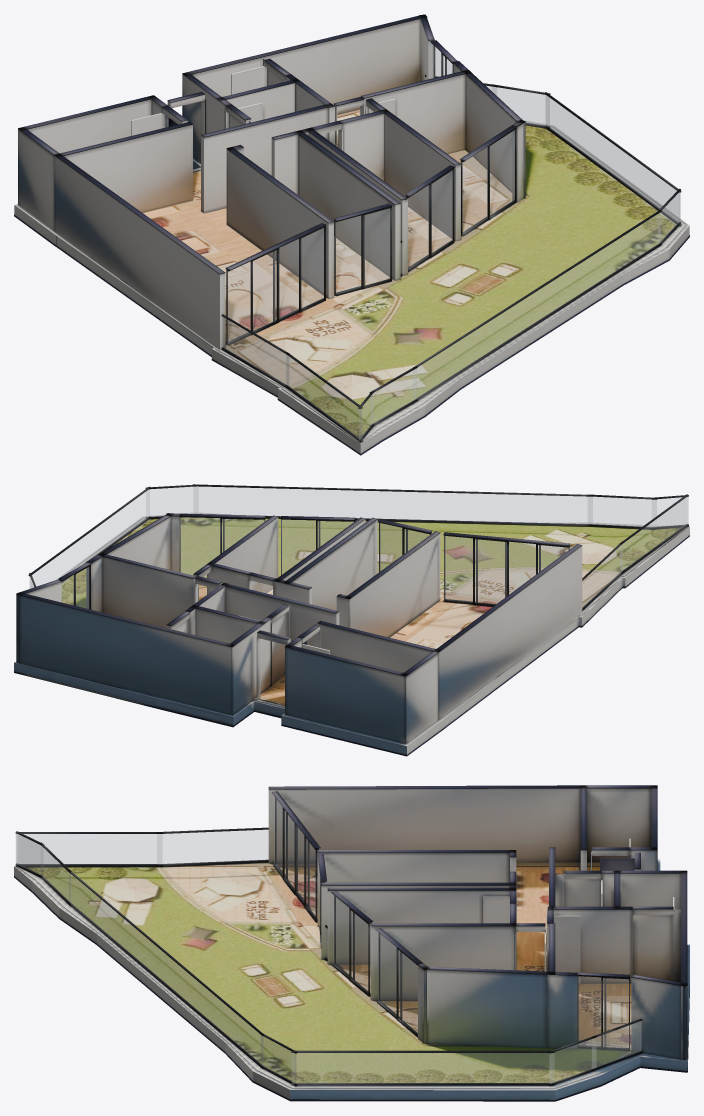
The picture shows the model from 3 angles, top to bottom: view 1: azimuth 30°, elevation 25°; view 2: azimuth 150°, elevation 25°; view 3: azimuth 270°, elevation 25°; orthographic projection. The views are drawn at different scales.
Parts seen in each view (by area): view 1: plan, railg7_m, glass4_m, railg4_m, glass3_m, glass1_m, glass2_m, railg5_m, railg0_m, railg8_m, railg3_m, railg6_m; view 2: plan, railg7_m, glass4_m, railg4_m, glass1_m, glass2_m, railg8_m, railg5_m, railg6_m, glass3_m, railg0_m, railg9_m (+1 smaller); view 3: plan, railg4_m, railg7_m, railg5_m, railg0_m, glass0_m, glass1_m, glass4_m, glass2_m, railg2_m, railg3_m, railg6_m (+2 smaller).
Part boxes in pixels (box(x1,y1,x2,y2)): plan: box(14, 14, 689, 455); railg7_m: box(413, 212, 660, 400); glass4_m: box(227, 228, 323, 342); railg4_m: box(546, 95, 680, 223); glass3_m: box(335, 208, 389, 293); glass1_m: box(462, 130, 514, 233); glass2_m: box(408, 171, 452, 269); railg5_m: box(286, 355, 361, 439); railg0_m: box(222, 317, 289, 386); railg8_m: box(371, 368, 416, 424); railg3_m: box(492, 87, 549, 126); railg6_m: box(658, 193, 679, 244); plan: box(14, 484, 689, 756); railg7_m: box(194, 486, 592, 524); glass4_m: box(444, 536, 568, 604); railg4_m: box(29, 490, 149, 588); glass1_m: box(180, 517, 263, 577); glass2_m: box(281, 520, 353, 574); railg8_m: box(588, 497, 656, 526); railg5_m: box(620, 497, 686, 572); railg6_m: box(146, 486, 198, 516); glass3_m: box(379, 523, 429, 571); railg0_m: box(582, 545, 622, 607); railg9_m: box(652, 497, 688, 526); plan: box(14, 785, 689, 1101); railg4_m: box(292, 1053, 554, 1082); railg7_m: box(69, 873, 263, 1066); railg5_m: box(16, 834, 162, 864); railg0_m: box(157, 830, 268, 864); glass0_m: box(577, 976, 628, 1047); glass1_m: box(378, 932, 417, 1033); glass4_m: box(274, 797, 315, 916); glass2_m: box(333, 895, 370, 993); railg2_m: box(592, 1021, 641, 1068); railg3_m: box(549, 1038, 596, 1083); railg6_m: box(261, 1035, 296, 1083).
Size of the model in its own units: 15.11 by 2.62 by 18.66.
2 materials, 1 textured.
